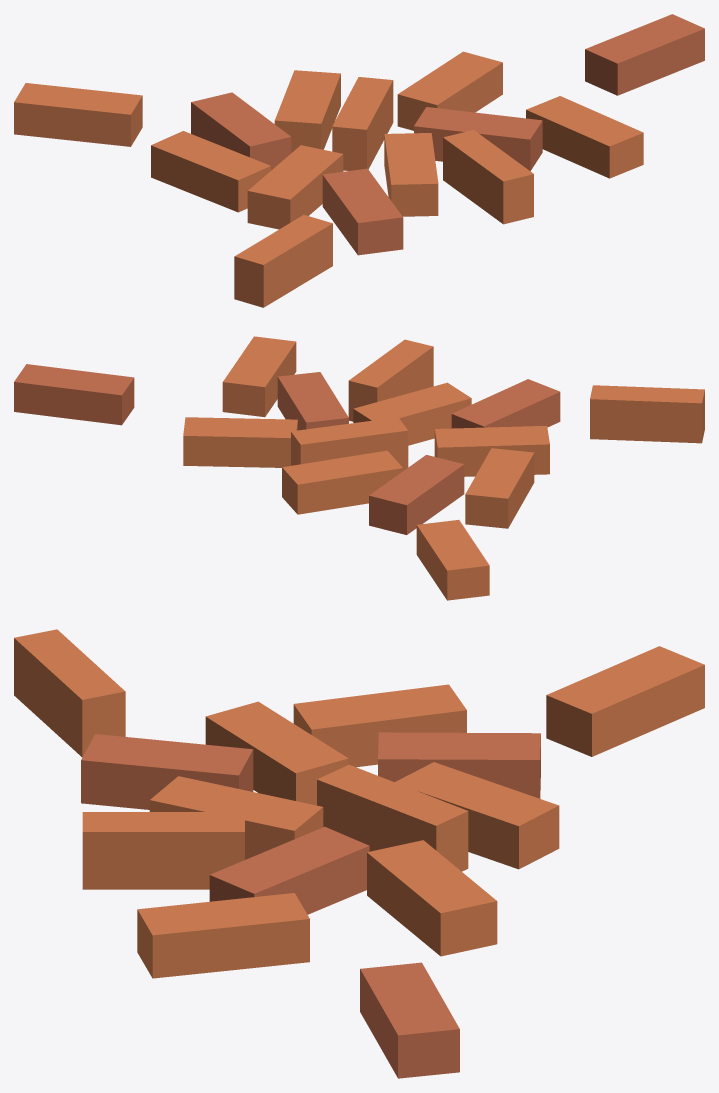
Rendered from Brick_Pile_m_08 6.fbx.
3 views of the same model, one above another, from view 1: azimuth 30°, elevation 25°; view 2: azimuth 150°, elevation 25°; view 3: azimuth 270°, elevation 25° (orthographic). The views are drawn at different scales.
Visible parts, largest first — view 1: Brick_Pile_m_08; view 2: Brick_Pile_m_08; view 3: Brick_Pile_m_08.
Part boxes in pixels (x1,y1,x2,y2): Brick_Pile_m_08: [14, 14, 704, 307]; Brick_Pile_m_08: [14, 336, 704, 600]; Brick_Pile_m_08: [14, 629, 704, 1078].
Size of the model in its own units: 146 by 10 by 109.
